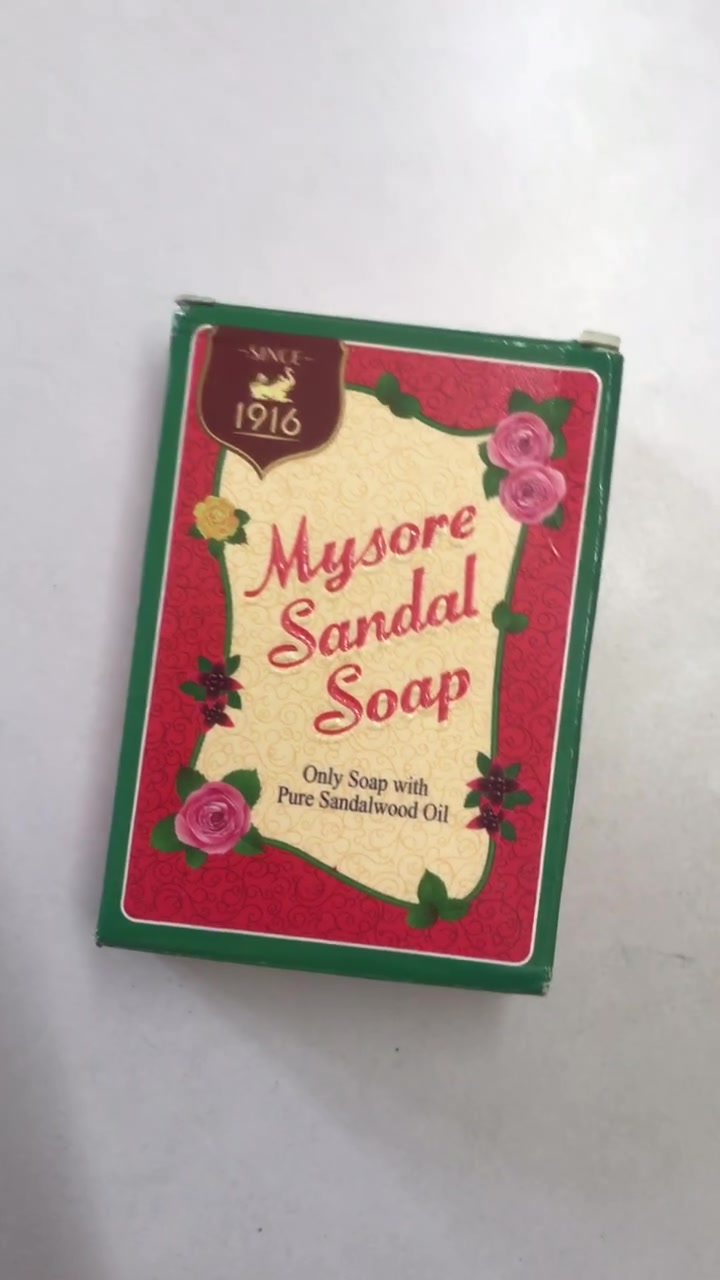mysore sandal soap: (89, 293, 623, 1002)
